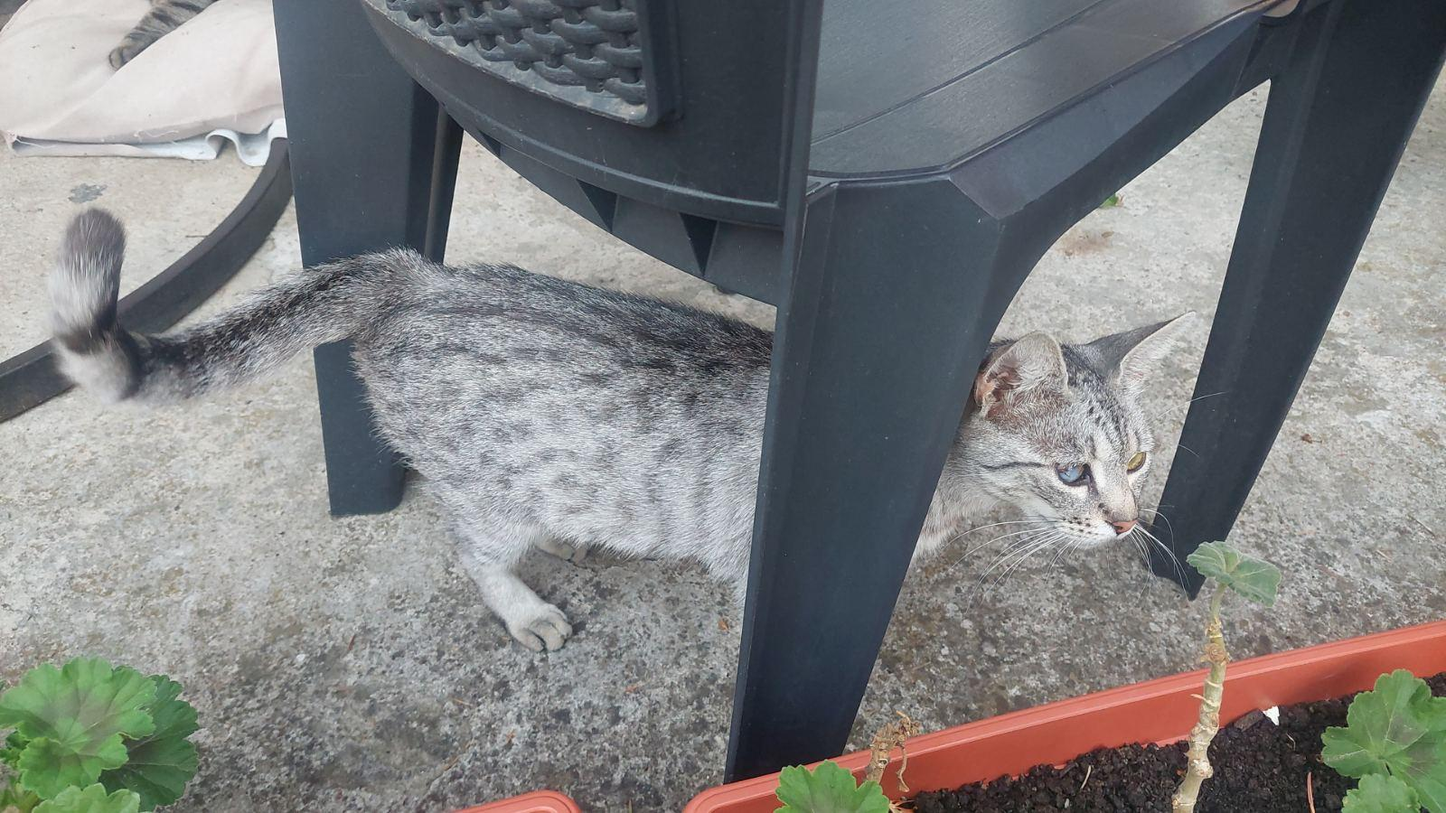macka: (51, 203, 1209, 661)
